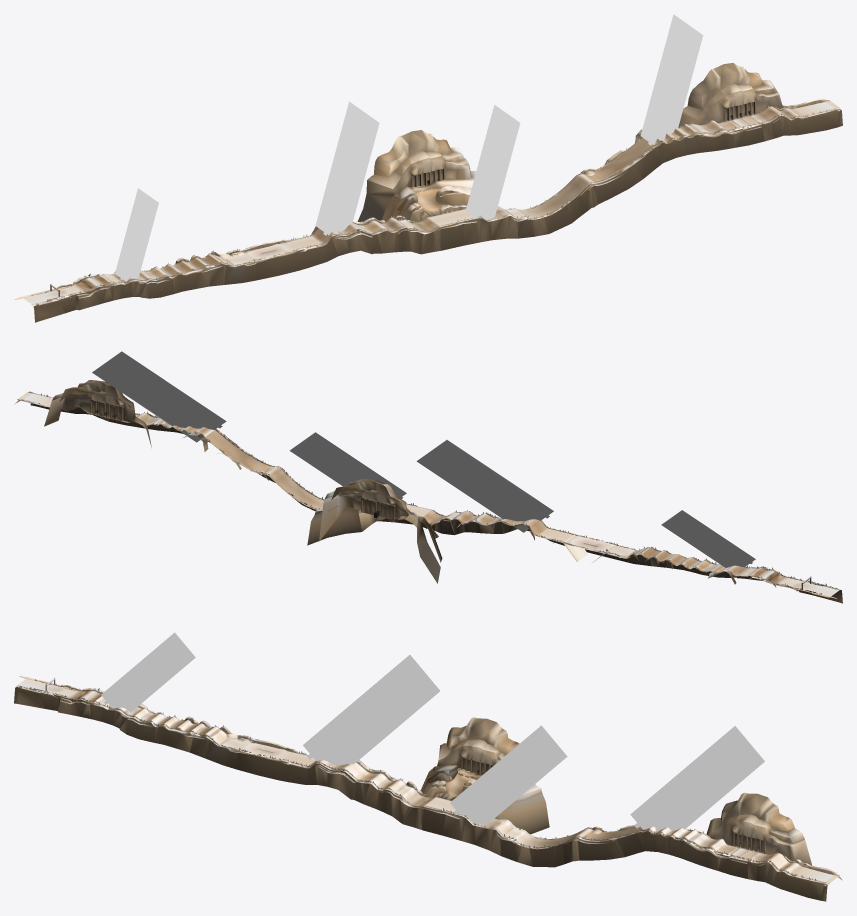
Rendered from Desert_13.fbx.
3 views of the same model, one above another, from view 1: azimuth 30°, elevation 25°; view 2: azimuth 150°, elevation 25°; view 3: azimuth 330°, elevation 25° (orthographic).
Parts seen in each view (by area): view 1: Mountain_01, Light_01, Road_01, Ground_01, Tree_01, Ground_02; view 2: Light_01, Mountain_01, Road_01, Ground_01, Tree_01, Pattern_01, Pattern_02; view 3: Mountain_01, Light_01, Road_01, Ground_01, Tree_01, Ground_02.
Part boxes in pixels (x1=…): Mountain_01: x1=32, y1=63, x2=842, y2=322; Light_01: x1=115, y1=14, x2=703, y2=281; Road_01: x1=23, y1=102, x2=833, y2=304; Ground_01: x1=31, y1=100, x2=839, y2=304; Tree_01: x1=31, y1=102, x2=827, y2=304; Ground_02: x1=14, y1=171, x2=594, y2=299; Light_01: x1=92, y1=351, x2=755, y2=567; Mountain_01: x1=14, y1=380, x2=842, y2=603; Road_01: x1=24, y1=393, x2=838, y2=596; Ground_01: x1=17, y1=392, x2=839, y2=597; Tree_01: x1=38, y1=393, x2=837, y2=594; Pattern_01: x1=152, y1=416, x2=771, y2=578; Pattern_02: x1=90, y1=399, x2=123, y2=420; Mountain_01: x1=14, y1=684, x2=842, y2=901; Light_01: x1=101, y1=632, x2=764, y2=830; Road_01: x1=18, y1=678, x2=833, y2=881; Ground_01: x1=17, y1=685, x2=839, y2=883; Tree_01: x1=19, y1=679, x2=827, y2=880; Ground_02: x1=19, y1=676, x2=602, y2=833.
Bounding box in the file's own units: 69312 × 12291 × 7120.
